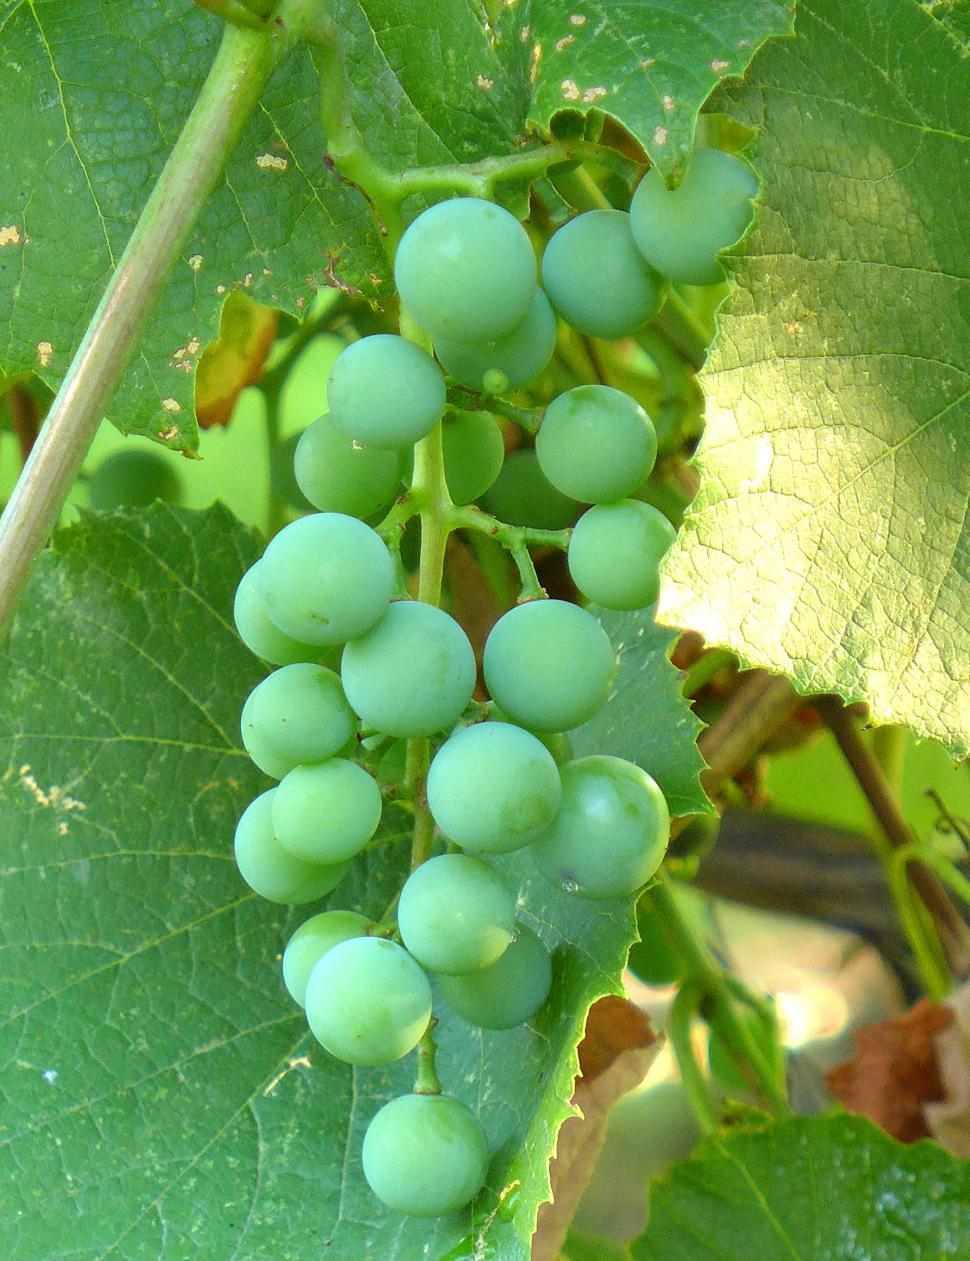grapes: (245, 145, 751, 1241)
